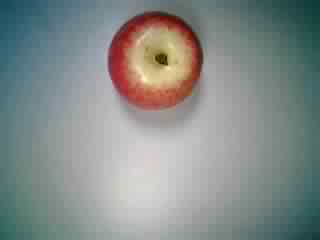apple: (103, 9, 209, 113)
